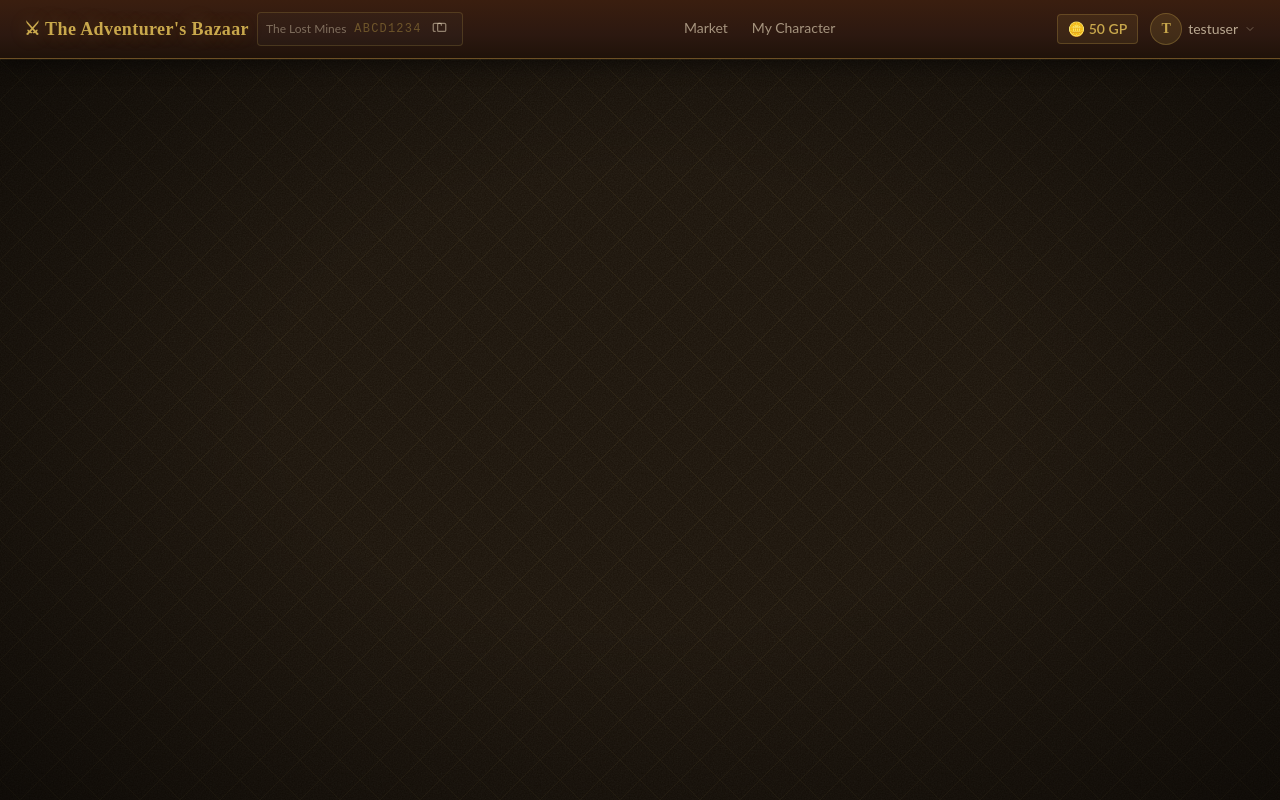
Test case: Navbar — user dropdown › "Switch Character" appears in dropdown after opening it
Click the text "testuser".
click(1213, 29)  # box 1188,19 -> 1238,39
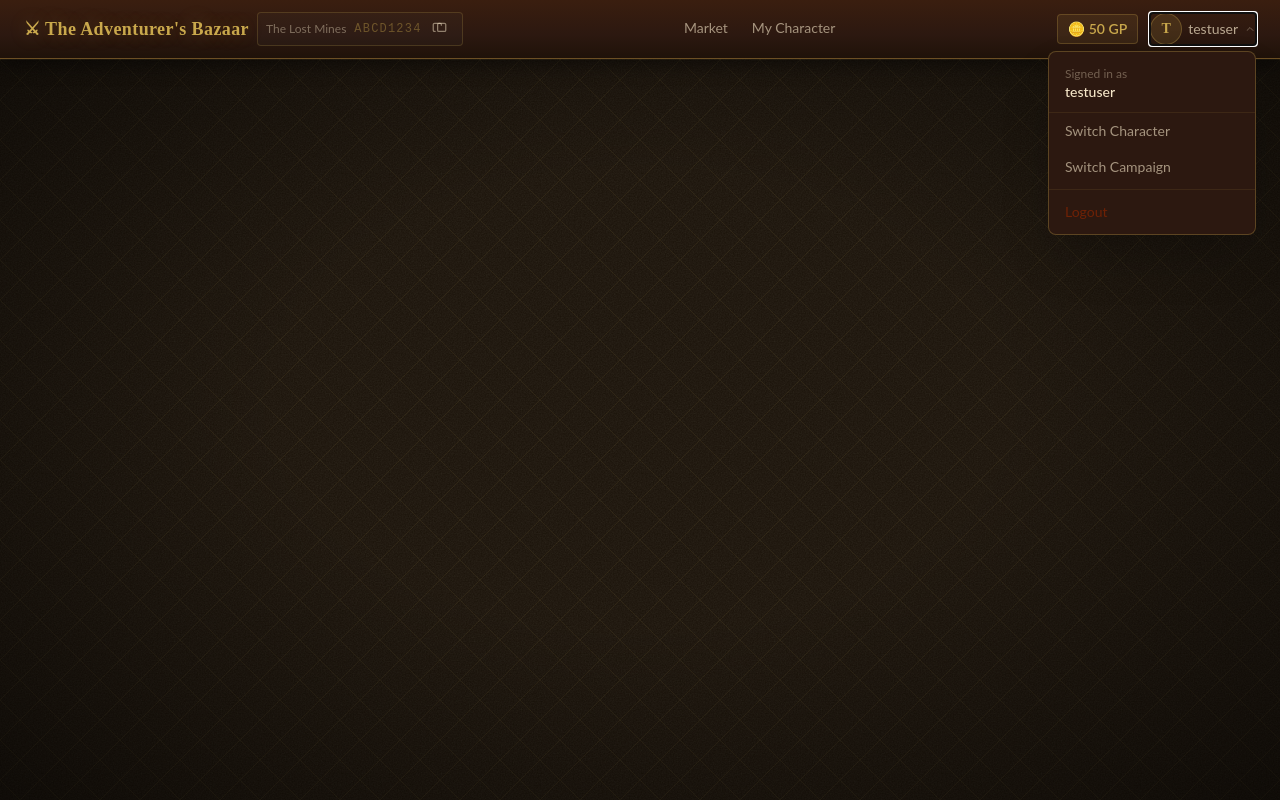
Result: the button "Switch Character" is shown at 1049,113 -> 1255,149
